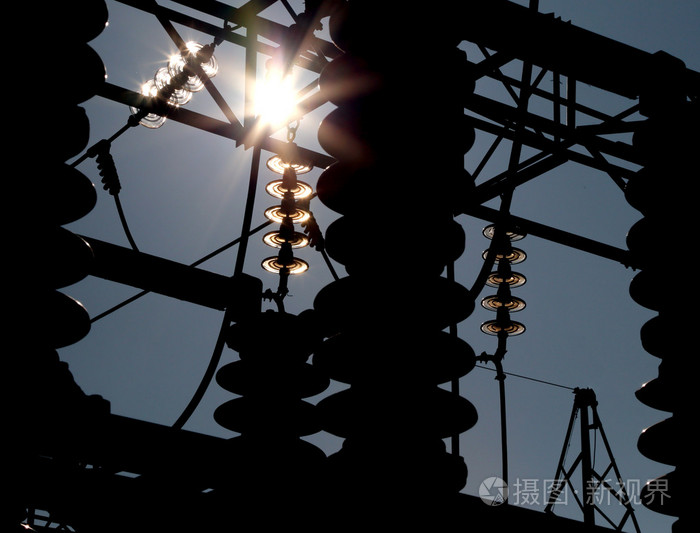insulator: (132, 41, 217, 130), (480, 215, 531, 343), (266, 147, 312, 279)
